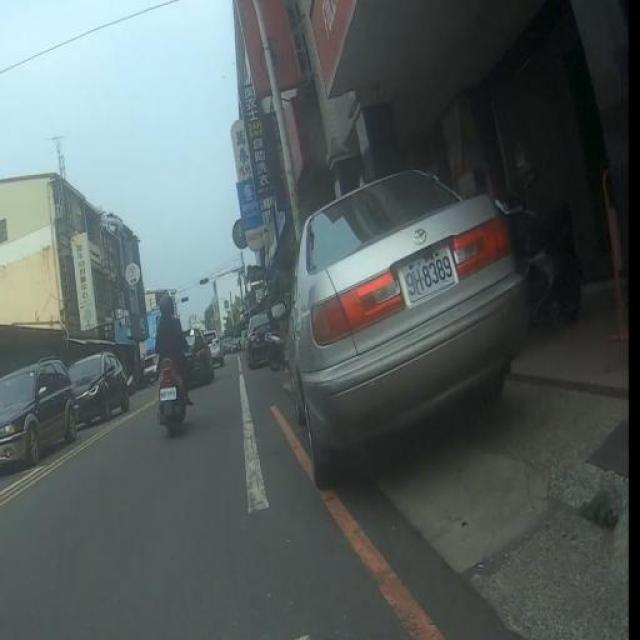Legalparking: (3, 331, 135, 472)
illegalparking: (285, 170, 526, 488)
